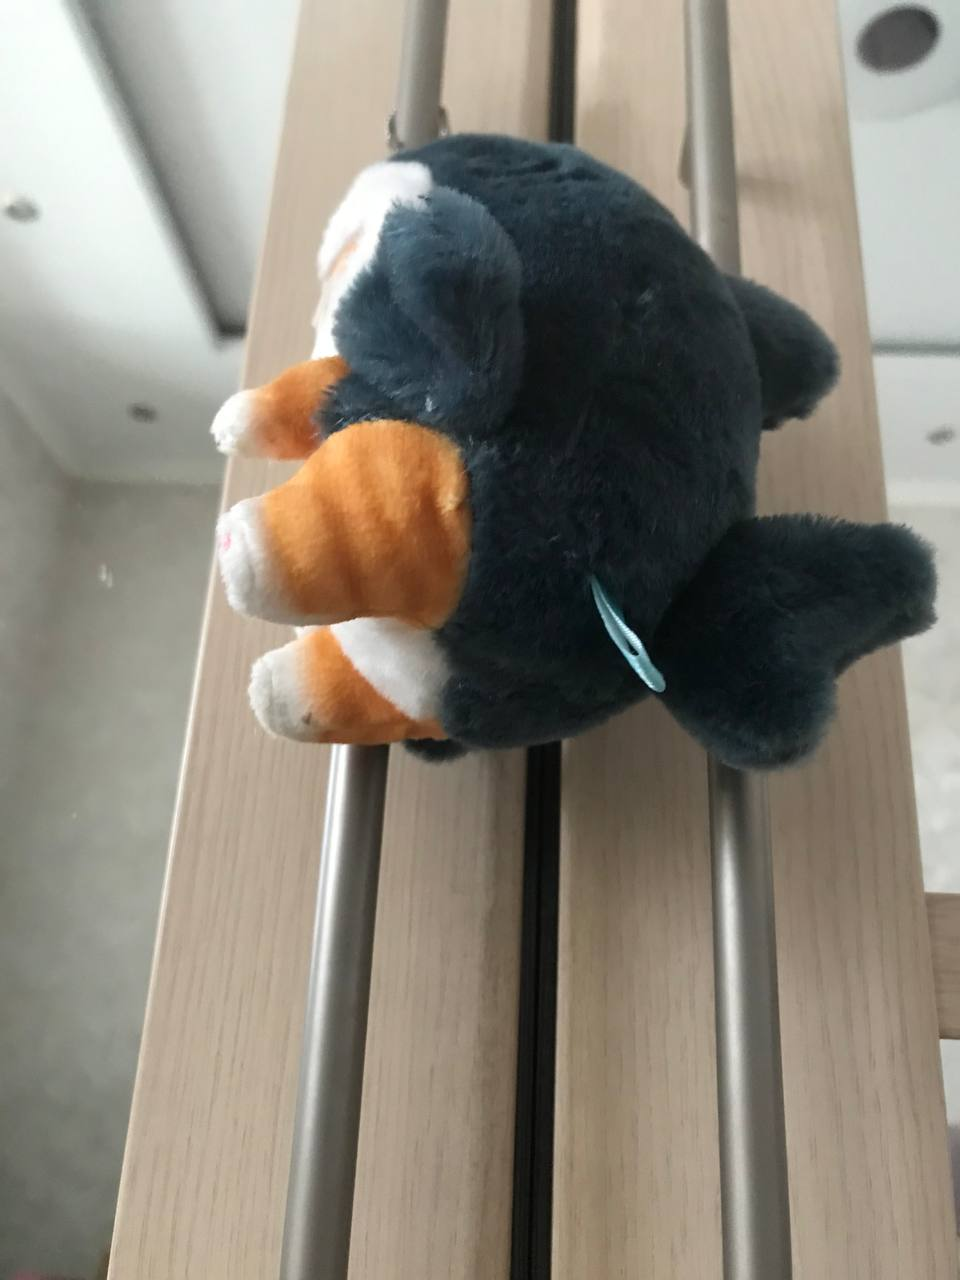cat_shark: (208, 130, 941, 773)
